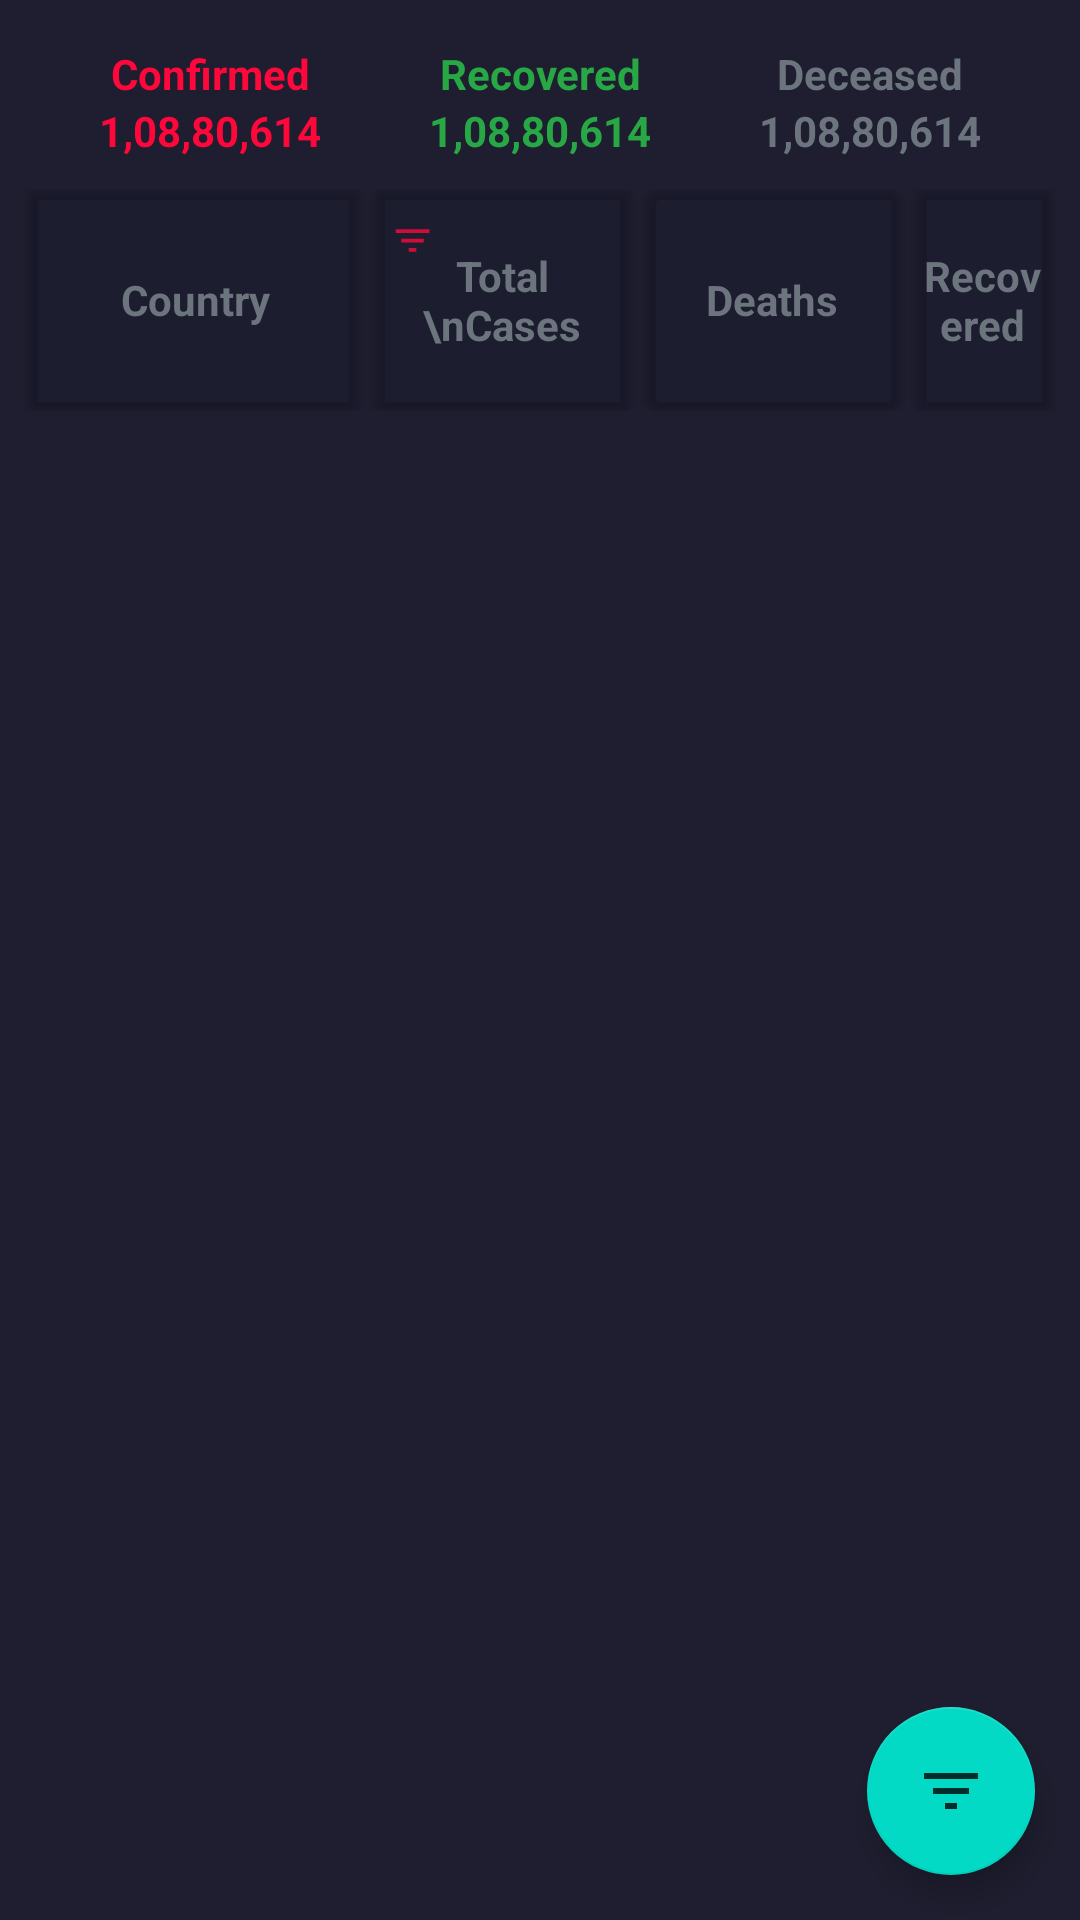

Icons on this 1080px x 1920px Android screen, each with its box as bbox(x1, y1, x2, y2):
desc sort: bbox(395, 229, 430, 252)
filter: bbox(867, 1707, 1035, 1875)
